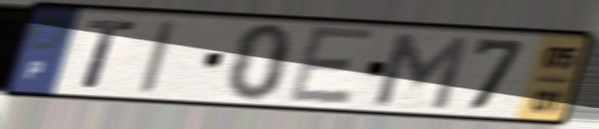0: (221, 21, 298, 104)
7: (465, 35, 534, 114)
E: (284, 23, 379, 107)
I: (136, 18, 181, 97)
M: (371, 30, 474, 113)
T: (80, 16, 139, 91)
